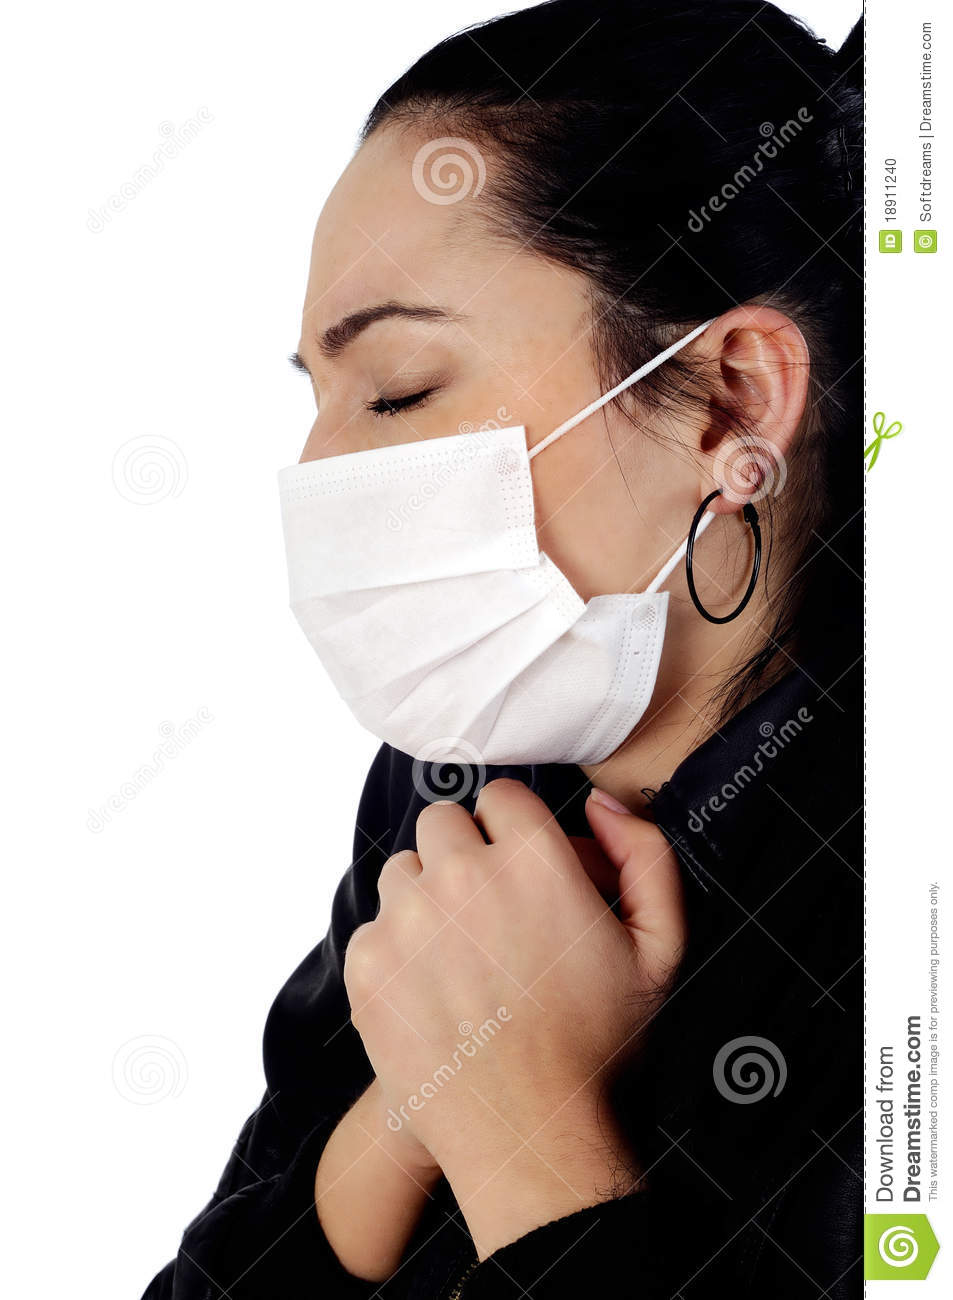mask: (277, 431, 672, 772)
